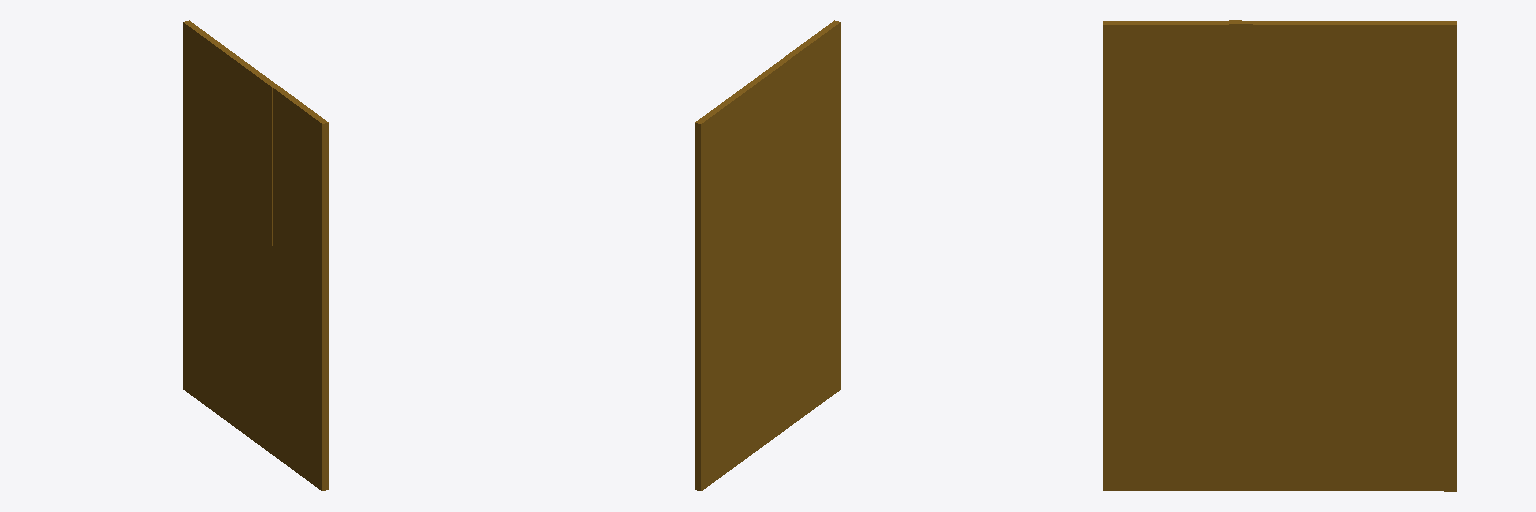
The robot description file, URDF, robot "basic_door":
<?xml version="0.0" ?>
<robot name="basic_door">

  <link name="base_link">
    <inertial>
      <origin rpy="0 0 0" xyz="0 0 0"/>
       <mass value=".0"/>
       <inertia ixx="0" ixy="0" ixz="0" iyy="0" iyz="0" izz="0"/>
    </inertial>
  </link>

  <link name="simple_door">
    <inertial>
      <origin rpy="0 0 0" xyz="0 0 0"/>
       <mass value=".0"/>
       <inertia ixx="0" ixy="0" ixz="0" iyy="0" iyz="0" izz="0"/>
    </inertial>
    <visual>
      <origin rpy="1.57 0 0" xyz="0 -0.451 1.02"/>
      <geometry>
        <mesh filename="package://uwds3/models/cad_models/obj/simple_door.obj" scale="1 1 1"/>
      </geometry>
       <material name="wood">
        <color rgba="0.572 0.427 0.152 1"/>
      </material>
    </visual>
  </link>

  <link name="door_extension">
    <inertial>
      <origin rpy="0 0 0" xyz="0 0 0"/>
       <mass value=".0"/>
       <inertia ixx="0" ixy="0" ixz="0" iyy="0" iyz="0" izz="0"/>
    </inertial>
    <visual>
      <origin rpy="1.57 0 -1.57" xyz="0 0.252 1.02"/>
      <geometry>
        <mesh filename="package://uwds3/models/cad_models/obj/door_extension.obj" scale="1 1 1"/>
      </geometry>
       <material name="wood">
        <color rgba="0.572 0.427 0.152 1"/>
      </material>
    </visual>
  </link>

  <joint name="base_to_door" type="revolute">
    <parent link="base_link"/>
    <child link="simple_door"/>
    <axis xyz="0 0 1"/>
    <limit effort="1000.0" lower="0.0" upper="1.57" velocity="0.5"/>
    <origin rpy="0 0 0" xyz="0 0.451 0"/>
  </joint>

  <joint name="base_to_door_extension" type="revolute">
    <parent link="base_link"/>
    <child link="door_extension"/>
    <axis xyz="0 0 -1"/>
    <limit effort="1000.0" lower="0.0" upper="1.57" velocity="0.5"/>
    <origin rpy="0 0 0" xyz="0 -0.951 0"/>
  </joint>

</robot>

--- What the picture shows (computed from the rendered views, not written in the file) ---
The picture shows the robot from 3 angles, left to right: view 1: azimuth 30°, elevation 25°; view 2: azimuth 150°, elevation 25°; view 3: azimuth 270°, elevation 25°; orthographic projection.
Model basic_door with 3 links and 2 joints (2 revolute), rooted at base_link, posed all joints at 0.
Visible links, largest first — view 1: simple_door, door_extension; view 2: simple_door, door_extension; view 3: simple_door, door_extension.
Link boxes in pixels (x1=…): simple_door: x1=183, y1=20, x2=277, y2=454; door_extension: x1=273, y1=86, x2=328, y2=490; simple_door: x1=695, y1=57, x2=790, y2=490; door_extension: x1=785, y1=20, x2=840, y2=425; simple_door: x1=1229, y1=20, x2=1456, y2=491; door_extension: x1=1103, y1=21, x2=1230, y2=490.
Bounding box of the posed robot: 0.0406 × 1.4 × 2.04 m (x, y, z).
Meshes: 2 distinct files referenced, 2 mesh visuals loaded (2 OBJ).